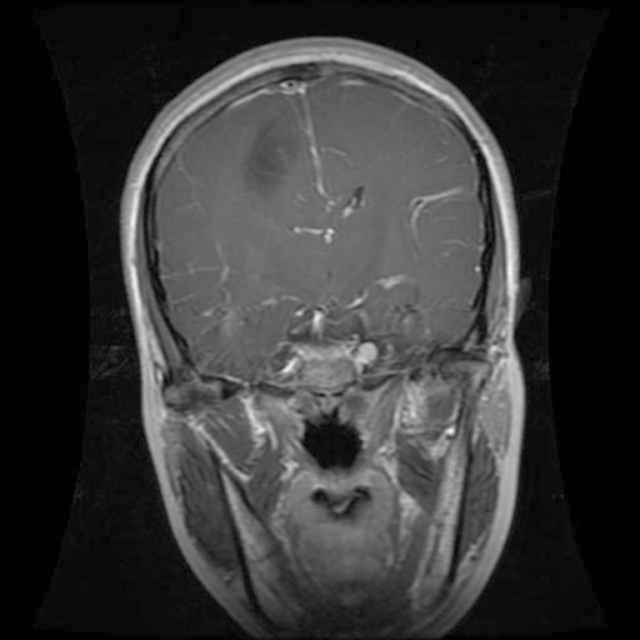pituitary tumor: (252, 119, 294, 190)
